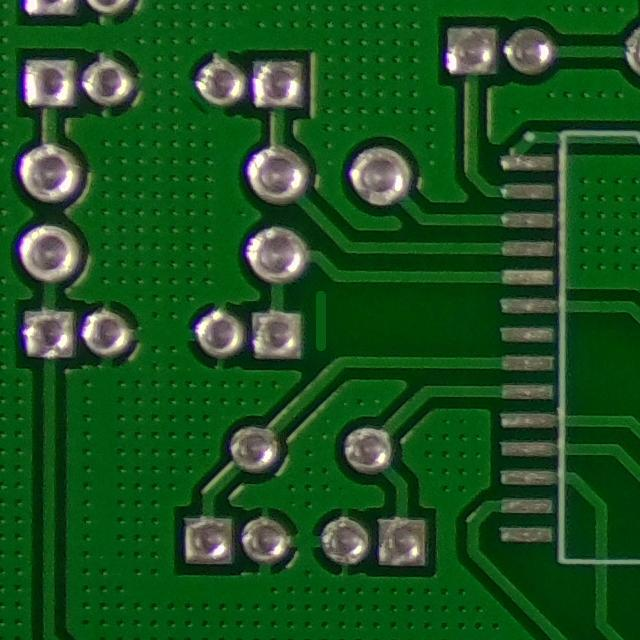spurious_copper: (302, 280, 338, 361)
